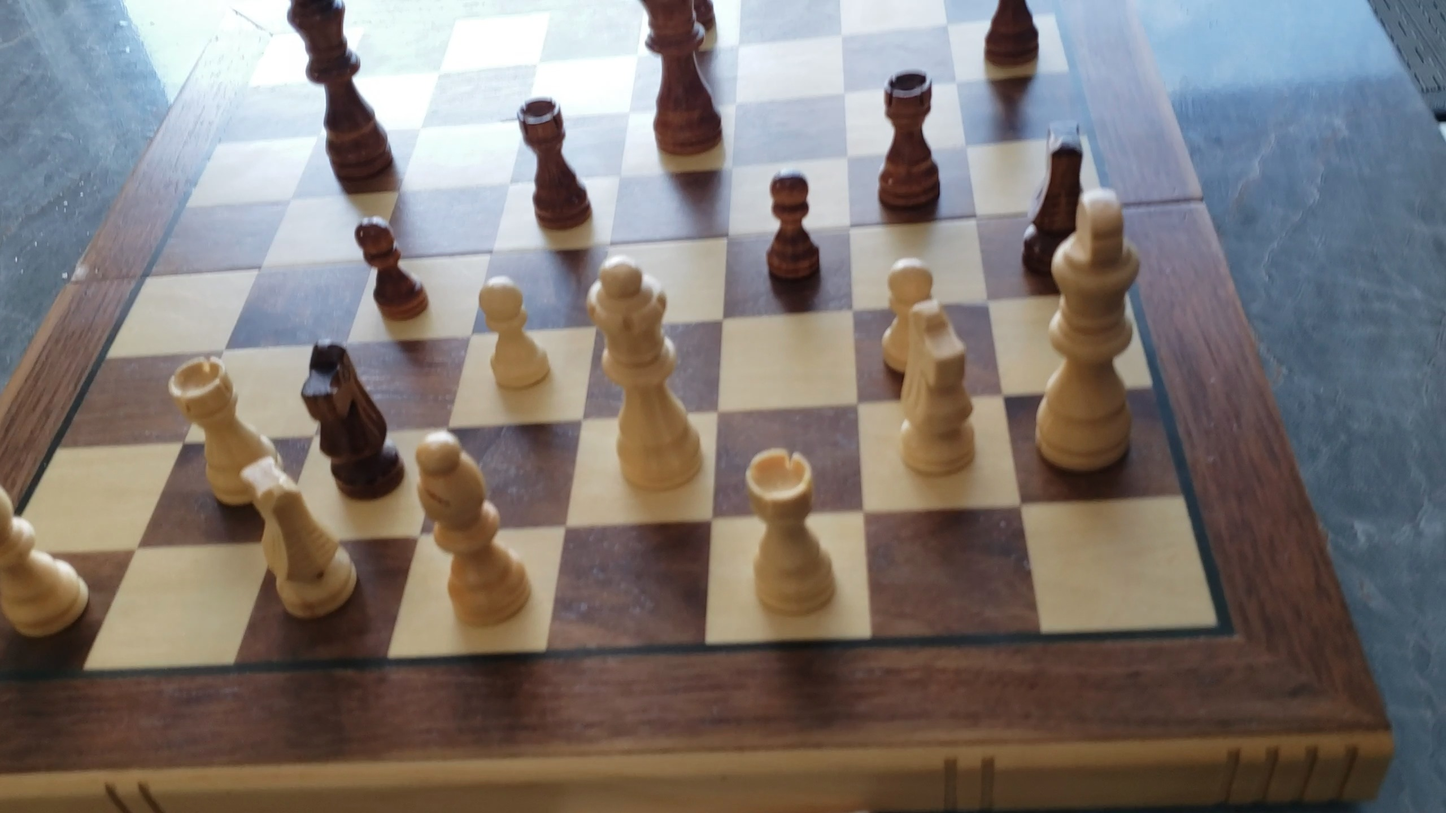black-king: (286, 0, 395, 187)
black-knight: (300, 336, 402, 499), (1017, 119, 1088, 277)
black-pawn: (337, 205, 439, 321), (762, 164, 822, 285)
black-queen: (637, 0, 725, 165)
black-rook: (514, 94, 594, 231), (877, 68, 941, 212)
white-bishop: (407, 426, 537, 632), (0, 483, 94, 642)
white-king: (1027, 179, 1148, 482)
white-knight: (230, 454, 364, 624), (890, 296, 982, 480)
white-pawn: (474, 271, 554, 394)
white-queen: (582, 253, 711, 496)
white-rook: (164, 351, 284, 513), (738, 443, 843, 620)
